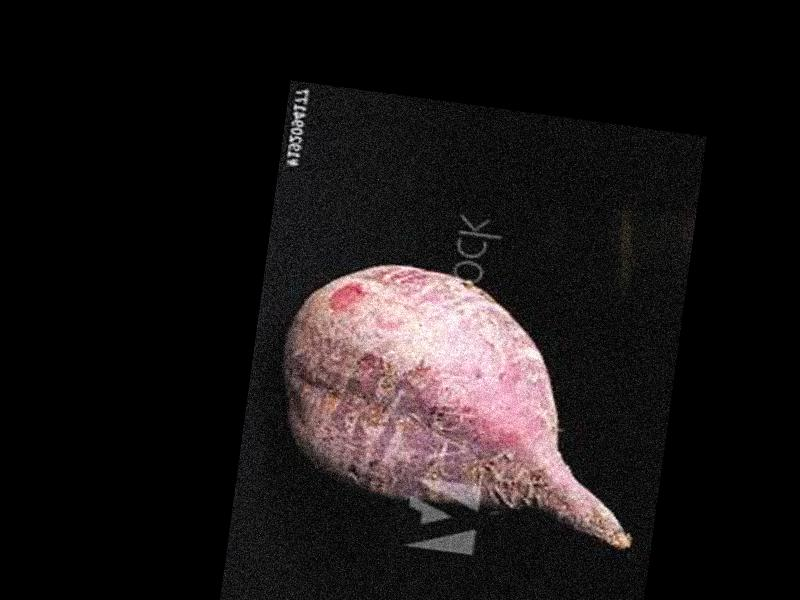Beet: (268, 249, 663, 547)
